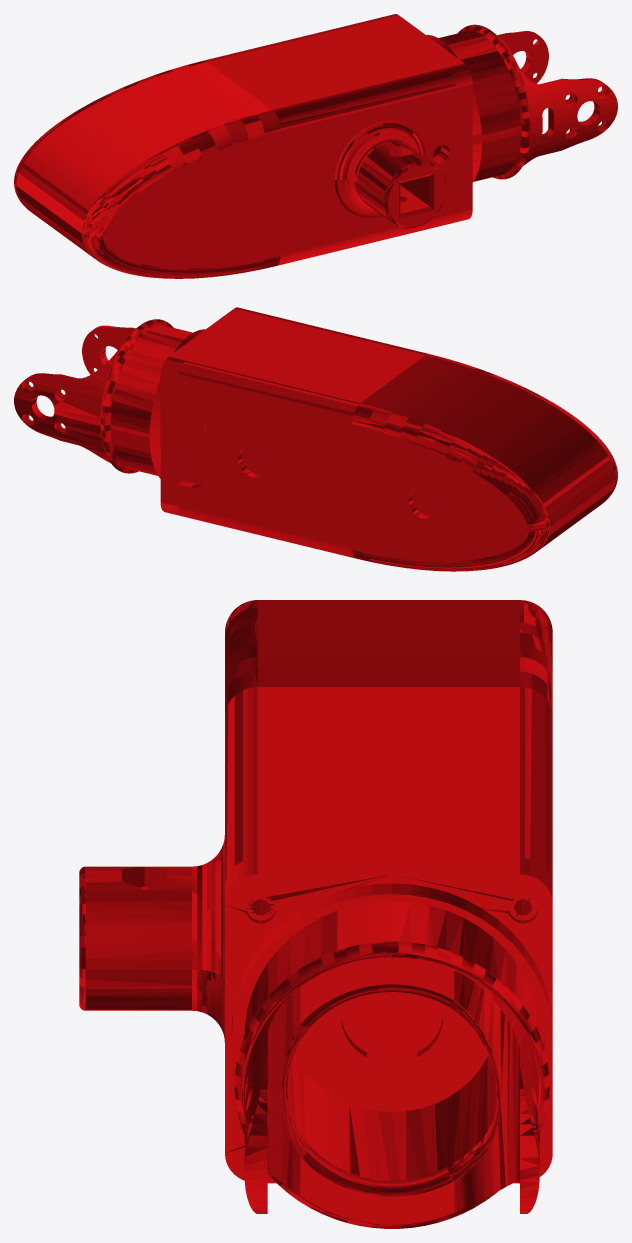
3 views of the same model, one above another, from view 1: azimuth 30°, elevation 25°; view 2: azimuth 150°, elevation 25°; view 3: azimuth 270°, elevation 25° (orthographic). The views are drawn at different scales.
Visible parts, largest first — view 1: link0; view 2: link0; view 3: link0.
Part boxes in pixels (x1,y1,x2,y2): link0: (14,14,617,278); link0: (14,307,617,571); link0: (79,600,552,1228).
Bounding box in the file's own units: 187 × 52.05 × 72.22.
